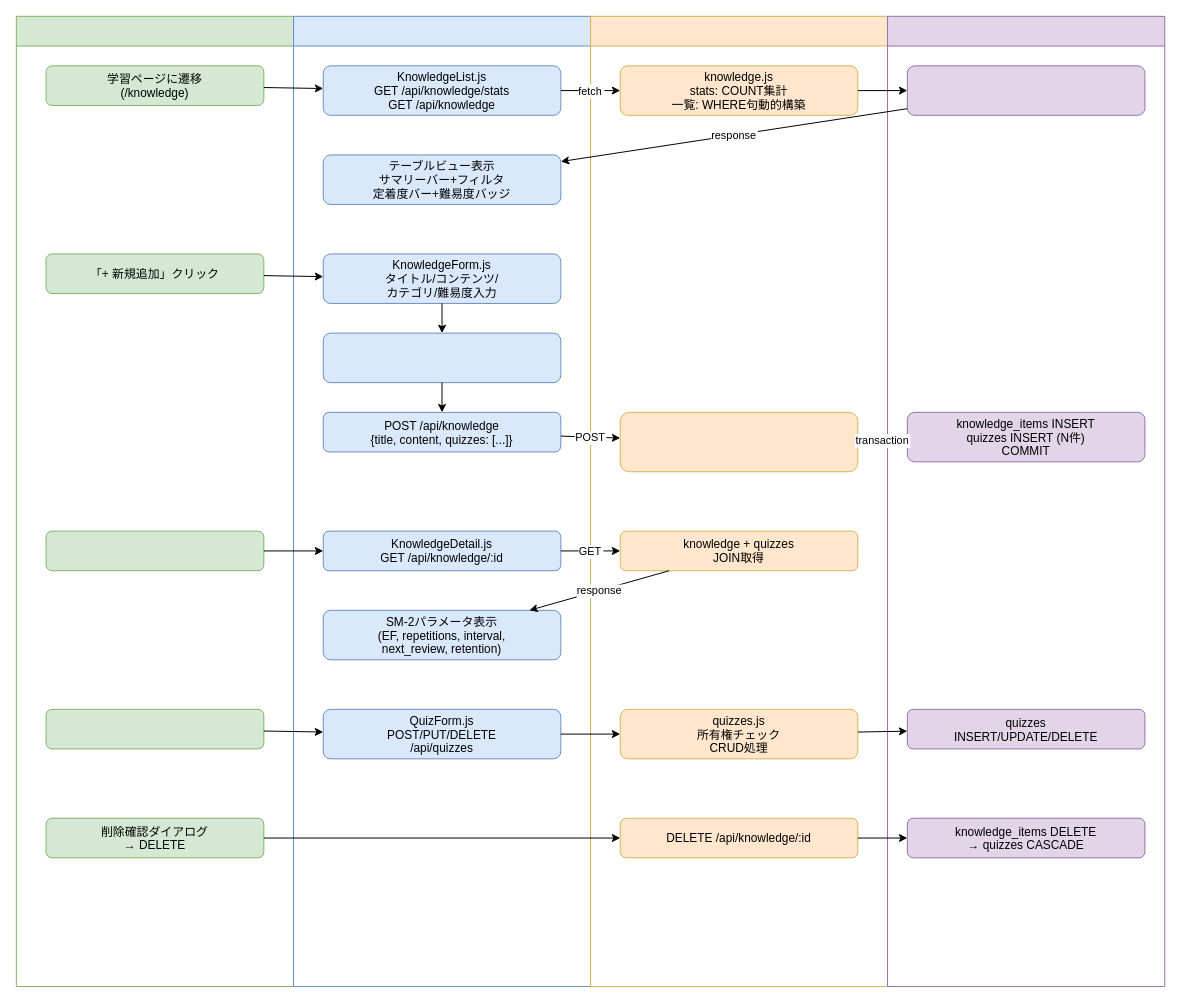
Some shapes in this 1181 by 1003 pixel diagram are drawn without their labels. The shapes that lost their labels are listed below. From the top down, each one's box as (x1, y1, x2, y2) in pixels, then its label:
(906, 65, 1145, 115): knowledge_items SELECT + COUNT (category/difficulty/statusフィルタ)
(322, 332, 561, 383): QuizForm.js (inline) 質問/解答/形式入力 複数追加可能
(619, 411, 858, 472): knowledge.js POST トランザクション開始 knowledge INSERT quizzes 一括INSERT
(15, 15, 294, 987): ブラウザ (User)
(293, 15, 591, 987): React (Frontend)
(590, 15, 888, 987): Express (Backend)
(887, 15, 1165, 987): MySQL (DB)
(45, 530, 264, 571): タイトルクリック
(45, 708, 264, 749): クイズ追加/編集/削除
